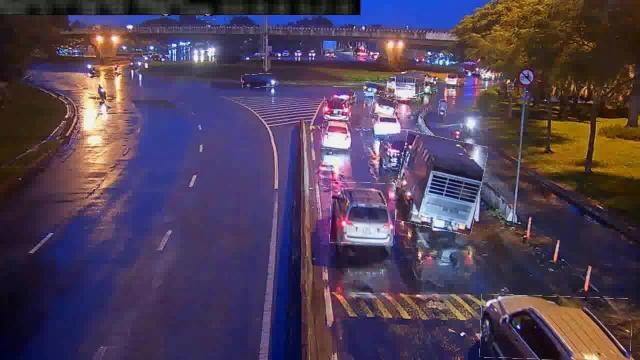Bike: (95, 82, 107, 102), (438, 100, 446, 116)
Car: (480, 295, 632, 359), (330, 182, 396, 244), (368, 112, 404, 134), (322, 121, 350, 149), (324, 98, 350, 118), (372, 96, 396, 116), (334, 86, 358, 106), (242, 73, 276, 87), (364, 82, 386, 96)
Truck: (394, 134, 484, 232)
